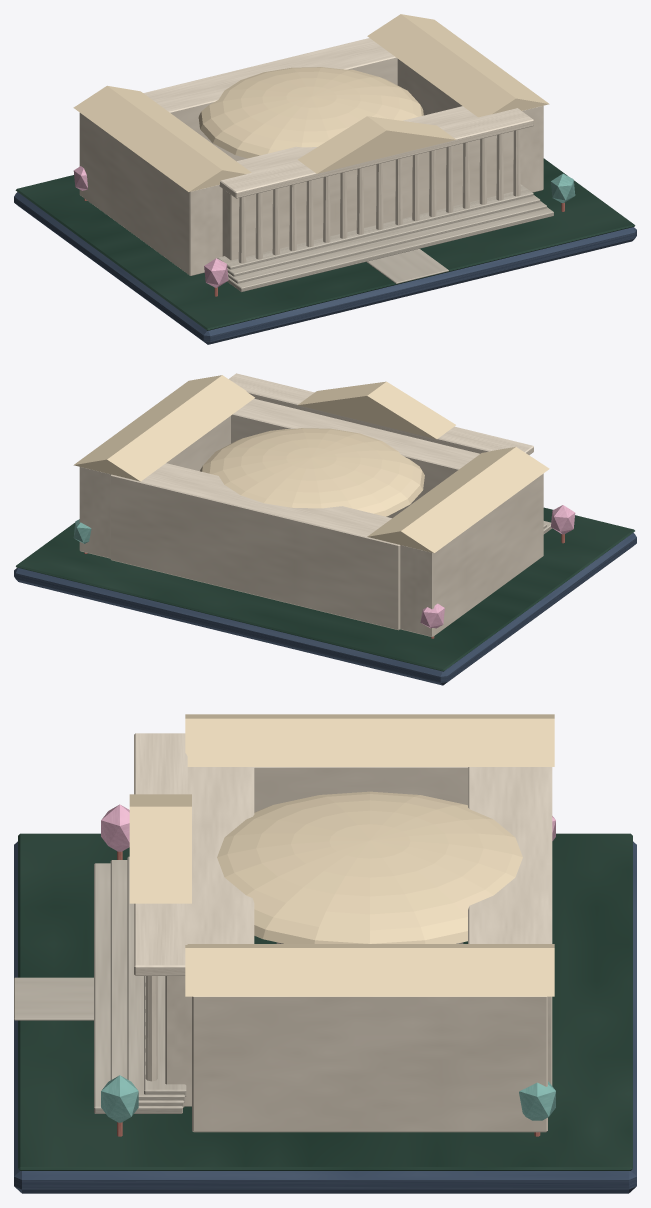
Rendered from british-museum-diorama.glb.
3 views of the same model, one above another, from view 1: azimuth 30°, elevation 25°; view 2: azimuth 150°, elevation 25°; view 3: azimuth 270°, elevation 25° (orthographic). The views are drawn at different scales.
Parts seen in each view (by area): view 1: british-museum; view 2: british-museum; view 3: british-museum.
Part boxes in pixels (x1,y1,x2,y2): british-museum: [14, 14, 636, 344]; british-museum: [14, 373, 636, 685]; british-museum: [14, 714, 636, 1193].
Size of the model in its own units: 18 by 5.48 by 14.
1 material, 1 textured.
